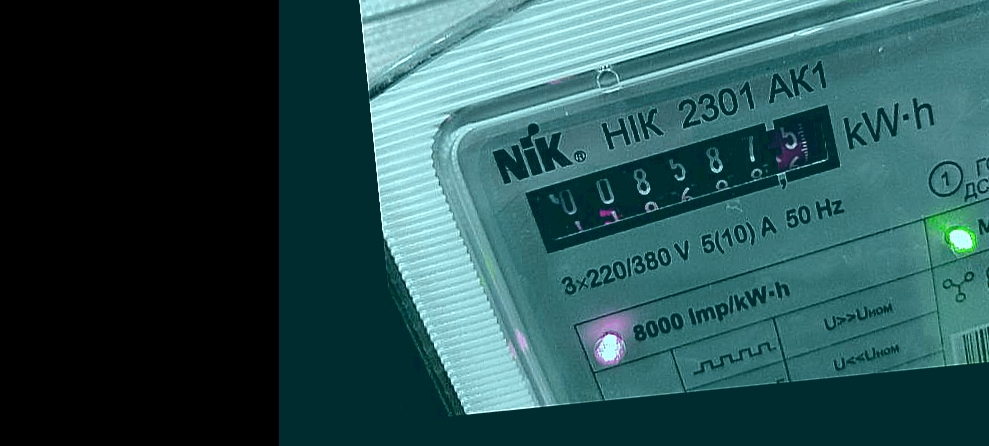0: (590, 171, 619, 208), (553, 183, 582, 217)
5: (664, 151, 690, 184), (776, 118, 801, 151)
6: (784, 153, 804, 171)
7: (738, 131, 763, 167)
8: (628, 164, 656, 198), (701, 141, 727, 176)
screen: (511, 101, 868, 257)
